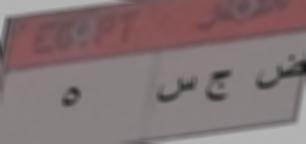5: (47, 78, 99, 121)
daad: (255, 55, 306, 93)
jeem: (202, 62, 237, 105)
seen: (155, 70, 200, 109)
